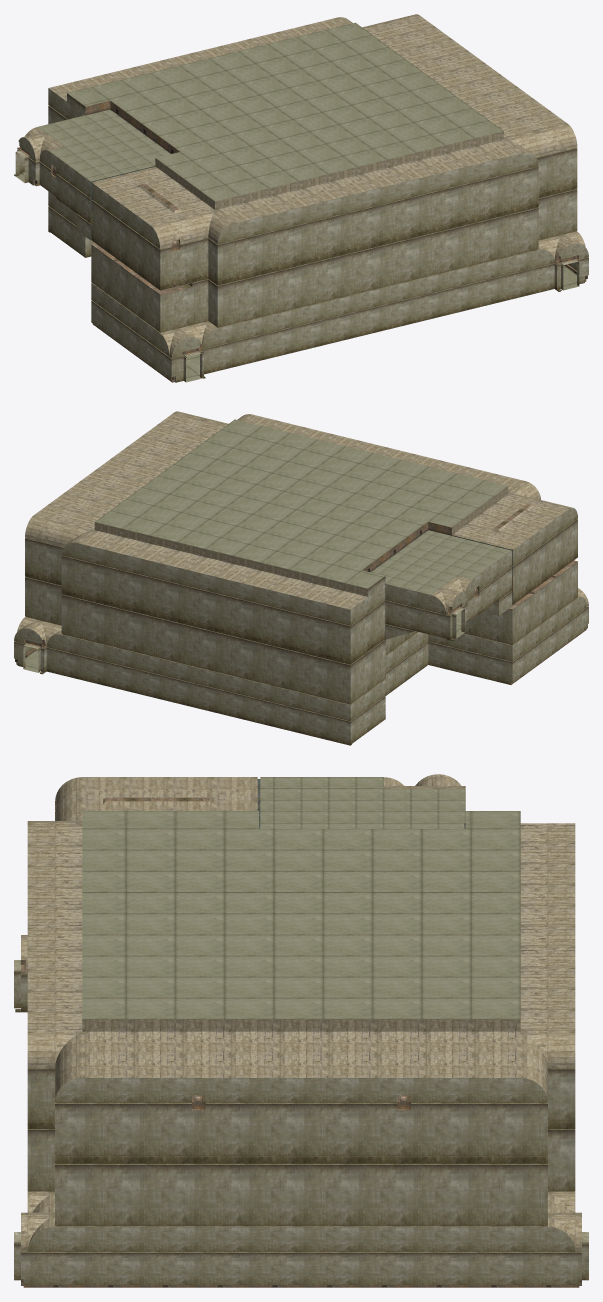
The model's file is poi_all_bunker_allum_mine_r34_observationroom34_mesh_r34.fbx.
3 views of the same model, one above another, from view 1: azimuth 30°, elevation 25°; view 2: azimuth 150°, elevation 25°; view 3: azimuth 270°, elevation 25° (orthographic). The views are drawn at different scales.
Parts seen in each view (by area): view 1: mesh_node; view 2: mesh_node; view 3: mesh_node.
Part boxes in pixels (x1,y1,x2,y2): mesh_node: (14,14,588,382); mesh_node: (14,411,588,745); mesh_node: (14,774,588,1287).
Bounding box in the file's own units: 53 × 18.1 × 42.
